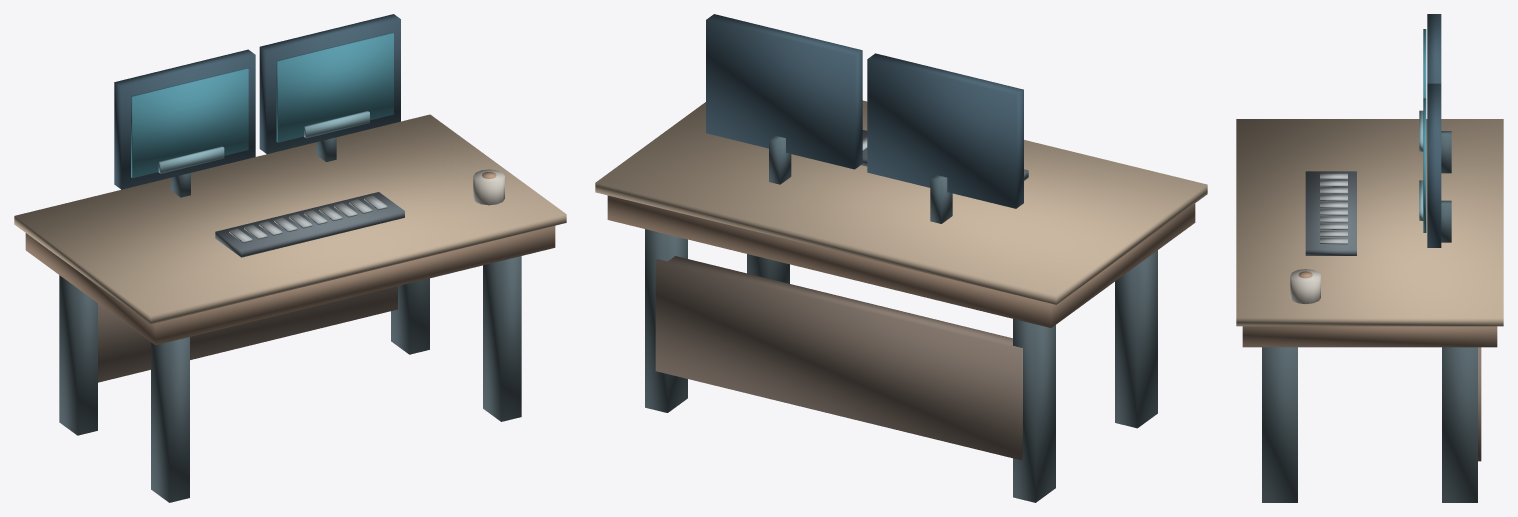
The model's file is f3a-desk.glb.
3 views of the same model, side by side, from view 1: azimuth 30°, elevation 25°; view 2: azimuth 150°, elevation 25°; view 3: azimuth 270°, elevation 25° (orthographic). The views are drawn at different scales.
Parts seen in each view (by area): view 1: f3a-desk-part-001, f3a-desk-part-000, f3a-desk-part-008, f3a-desk-part-012, f3a-desk-part-006, f3a-desk-part-004, f3a-desk-part-005, f3a-desk-part-011, f3a-desk-part-007, f3a-desk-part-002, f3a-desk-part-015, f3a-desk-part-003 (+3 smaller); view 2: f3a-desk-part-001, f3a-desk-part-006, f3a-desk-part-007, f3a-desk-part-011, f3a-desk-part-000, f3a-desk-part-004, f3a-desk-part-002, f3a-desk-part-003, f3a-desk-part-010, f3a-desk-part-014, f3a-desk-part-005; view 3: f3a-desk-part-001, f3a-desk-part-000, f3a-desk-part-003, f3a-desk-part-005, f3a-desk-part-015, f3a-desk-part-011, f3a-desk-part-007, f3a-desk-part-026, f3a-desk-part-012, f3a-desk-part-010, f3a-desk-part-014, f3a-desk-part-006.
Boxes of the visible parts, x1=… form: f3a-desk-part-001: x1=14, y1=114, x2=566, y2=324; f3a-desk-part-000: x1=25, y1=226, x2=555, y2=345; f3a-desk-part-008: x1=131, y1=68, x2=248, y2=178; f3a-desk-part-012: x1=276, y1=32, x2=393, y2=142; f3a-desk-part-006: x1=98, y1=286, x2=397, y2=382; f3a-desk-part-004: x1=151, y1=337, x2=189, y2=502; f3a-desk-part-005: x1=483, y1=256, x2=521, y2=421; f3a-desk-part-011: x1=259, y1=14, x2=400, y2=153; f3a-desk-part-007: x1=114, y1=49, x2=255, y2=189; f3a-desk-part-002: x1=59, y1=275, x2=97, y2=435; f3a-desk-part-015: x1=215, y1=192, x2=404, y2=257; f3a-desk-part-003: x1=391, y1=278, x2=429, y2=354; f3a-desk-part-001: x1=595, y1=100, x2=1207, y2=304; f3a-desk-part-006: x1=655, y1=256, x2=1022, y2=460; f3a-desk-part-007: x1=867, y1=53, x2=1023, y2=208; f3a-desk-part-011: x1=706, y1=14, x2=862, y2=169; f3a-desk-part-000: x1=607, y1=195, x2=1195, y2=327; f3a-desk-part-004: x1=1115, y1=250, x2=1157, y2=428; f3a-desk-part-002: x1=1013, y1=319, x2=1055, y2=502; f3a-desk-part-003: x1=645, y1=229, x2=687, y2=412; f3a-desk-part-010: x1=930, y1=175, x2=952, y2=223; f3a-desk-part-014: x1=769, y1=135, x2=791, y2=184; f3a-desk-part-005: x1=747, y1=254, x2=789, y2=283; f3a-desk-part-001: x1=1236, y1=119, x2=1503, y2=326; f3a-desk-part-000: x1=1242, y1=326, x2=1497, y2=347; f3a-desk-part-003: x1=1442, y1=347, x2=1477, y2=502; f3a-desk-part-005: x1=1262, y1=347, x2=1297, y2=502; f3a-desk-part-015: x1=1305, y1=171, x2=1356, y2=255; f3a-desk-part-011: x1=1427, y1=83, x2=1441, y2=247; f3a-desk-part-007: x1=1427, y1=14, x2=1441, y2=83; f3a-desk-part-026: x1=1290, y1=269, x2=1320, y2=304; f3a-desk-part-012: x1=1423, y1=98, x2=1426, y2=232; f3a-desk-part-010: x1=1441, y1=131, x2=1451, y2=173; f3a-desk-part-014: x1=1441, y1=200, x2=1451, y2=242; f3a-desk-part-006: x1=1478, y1=347, x2=1481, y2=461.
Size of the model in its own units: 1.83 by 1.45 by 1.04.
